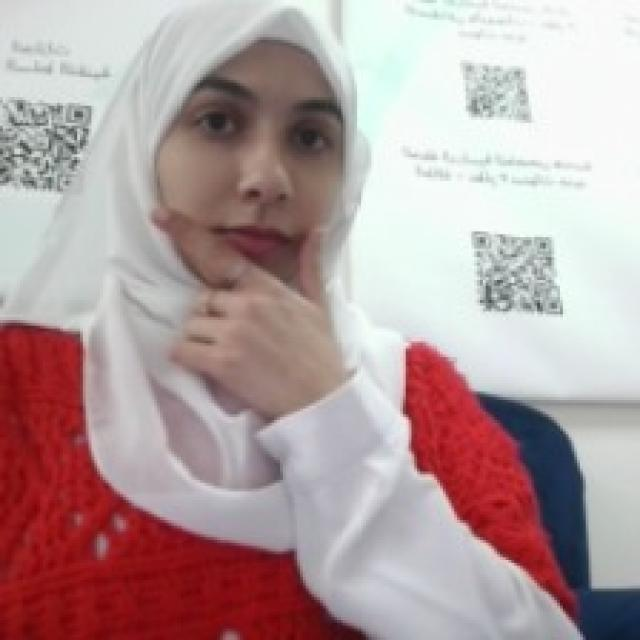smile: (143, 191, 337, 406)
